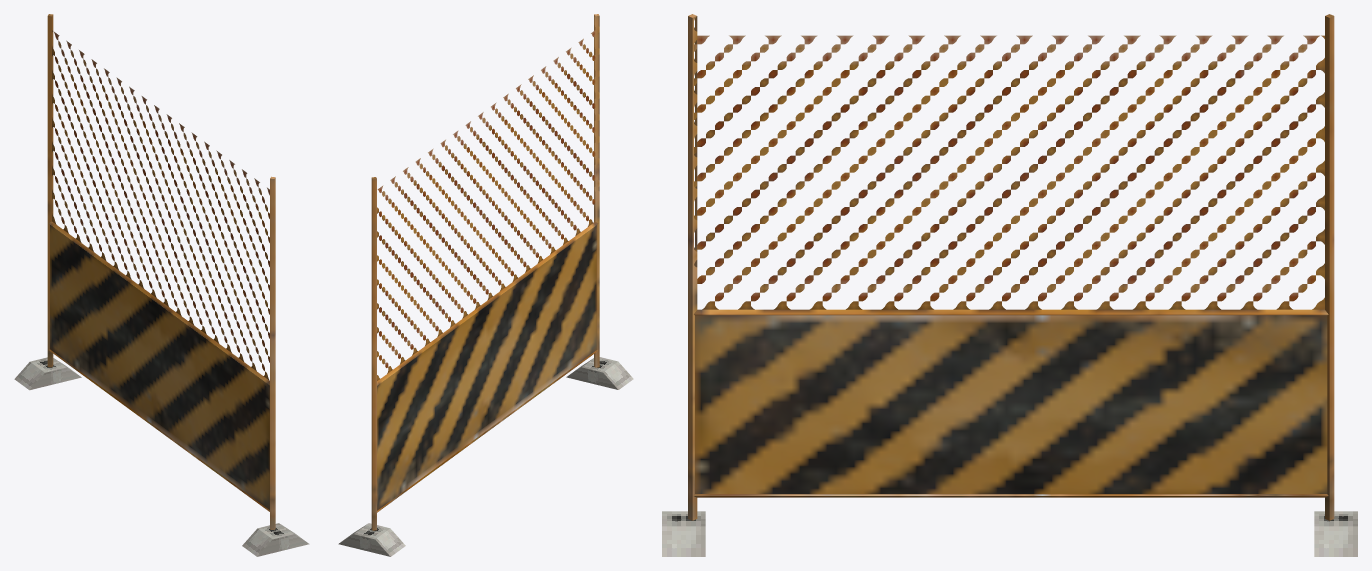
Rendered from Fence01.obj.
The picture shows the model from 3 angles, left to right: view 1: azimuth 30°, elevation 25°; view 2: azimuth 150°, elevation 25°; view 3: azimuth 270°, elevation 25°; orthographic projection. The views are drawn at different scales.
Parts seen in each view (by area): view 1: Frame, Wireframe, Fence.01.Brick01, Fence.01.Brick02; view 2: Frame, Wireframe, Fence.01.Brick02, Fence.01.Brick01; view 3: Frame, Wireframe, Fence.01.Brick01, Fence.01.Brick02.
Part boxes in pixels (x1,y1,x2,y2): Frame: (47,14,275,529); Wireframe: (52,30,269,380); Fence.01.Brick01: (242,523,309,556); Fence.01.Brick02: (14,357,81,390); Frame: (371,14,599,530); Wireframe: (377,30,595,380); Fence.01.Brick02: (338,523,405,556); Fence.01.Brick01: (566,357,633,389); Frame: (688,14,1334,520); Wireframe: (694,35,1324,309); Fence.01.Brick01: (662,511,705,556); Fence.01.Brick02: (1314,511,1357,556).
Bounding box in the file's own units: 0.4 × 2.65 × 3.2.
